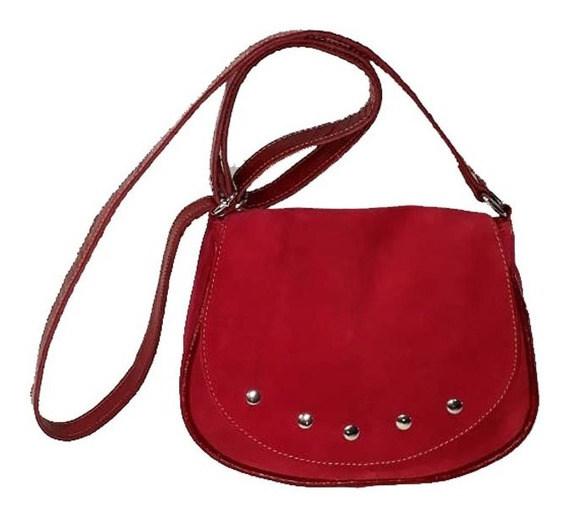cartera: (180, 28, 539, 487)
